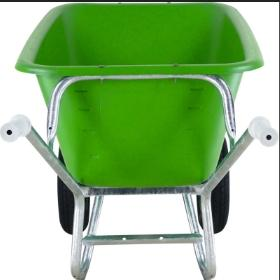BROUETTE: (1, 1, 280, 280)
